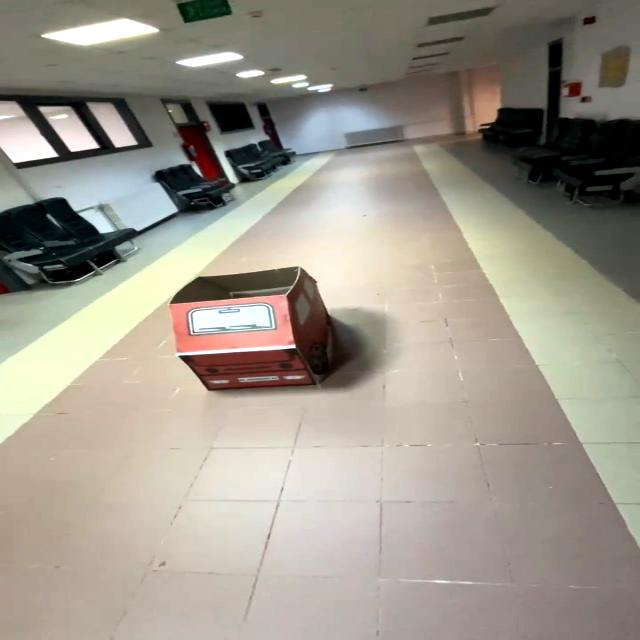red_car: (147, 255, 351, 399)
